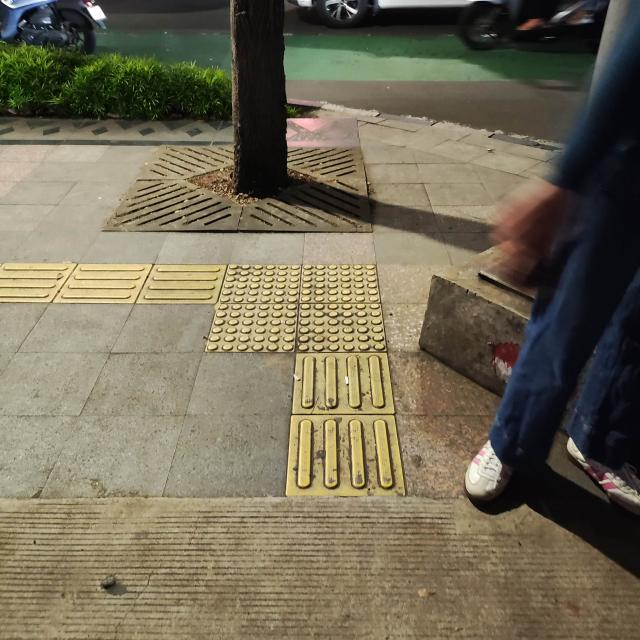kiri: (107, 251, 398, 394)
